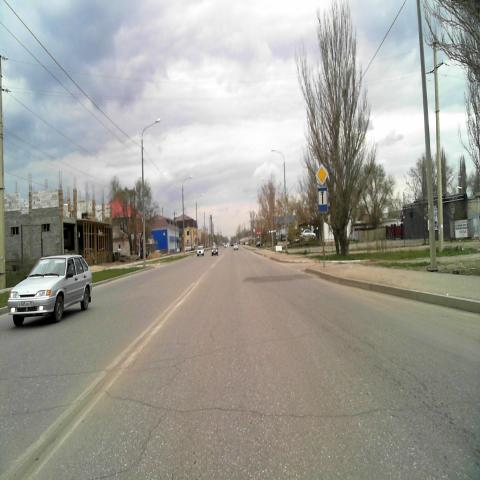7_4: (317, 186, 328, 213)
